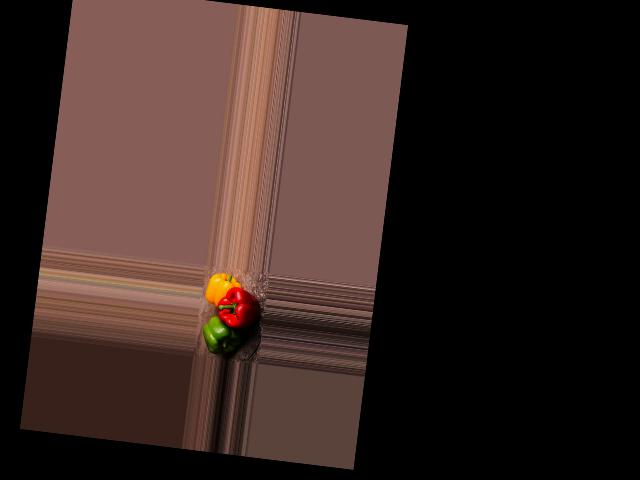bell_pepper: (203, 271, 243, 307)
